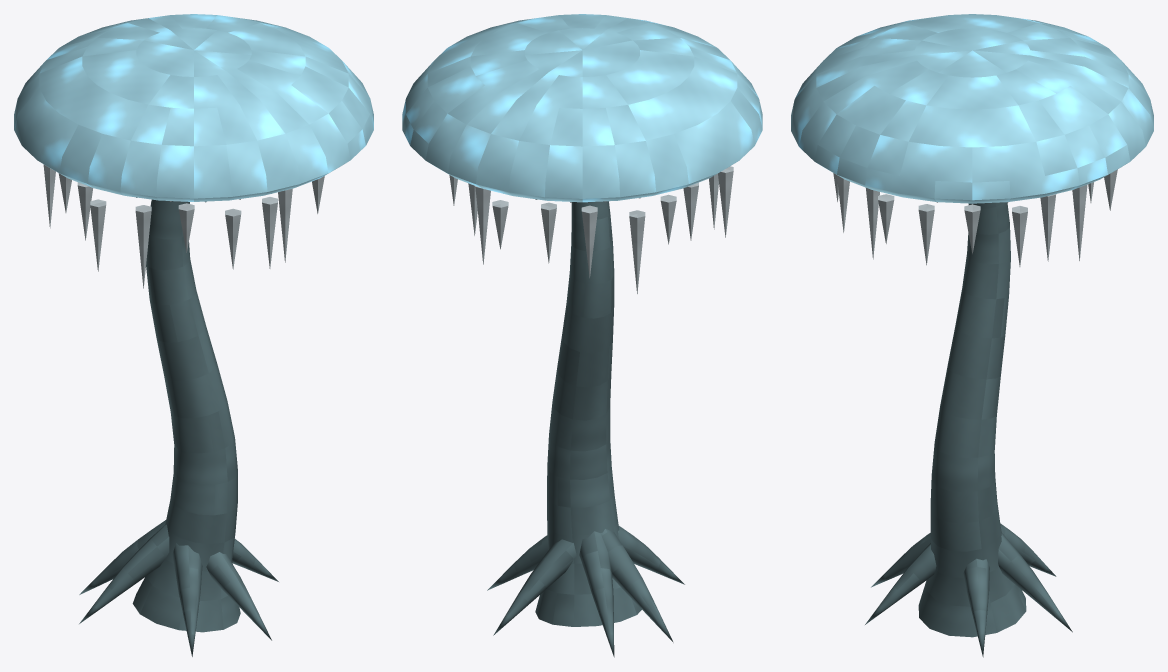
Rendered from underworld-flora-frozen-rimecap.glb.
3 renders of one model, left to right at view 1: azimuth 30°, elevation 25°; view 2: azimuth 150°, elevation 25°; view 3: azimuth 270°, elevation 25°, orthographic.
Visible parts, largest first — view 1: frozen-canopy, stalk, root-flare, hanging-rime; view 2: frozen-canopy, stalk, root-flare, hanging-rime; view 3: frozen-canopy, stalk, root-flare, hanging-rime.
Part boxes in pixels (x1,y1,x2,y2): frozen-canopy: [14, 14, 373, 201]; stalk: [132, 199, 240, 632]; root-flare: [79, 520, 278, 656]; hanging-rime: [43, 164, 324, 288]; frozen-canopy: [402, 14, 762, 202]; stalk: [535, 201, 641, 626]; root-flare: [487, 526, 684, 657]; hanging-rime: [449, 166, 733, 293]; frozen-canopy: [791, 14, 1153, 203]; stalk: [918, 202, 1026, 637]; root-flare: [865, 523, 1072, 657]; hanging-rime: [833, 169, 1117, 266].
Size of the model in its own units: 4.3 by 7.39 by 4.28.
3 materials, 3 textured.
